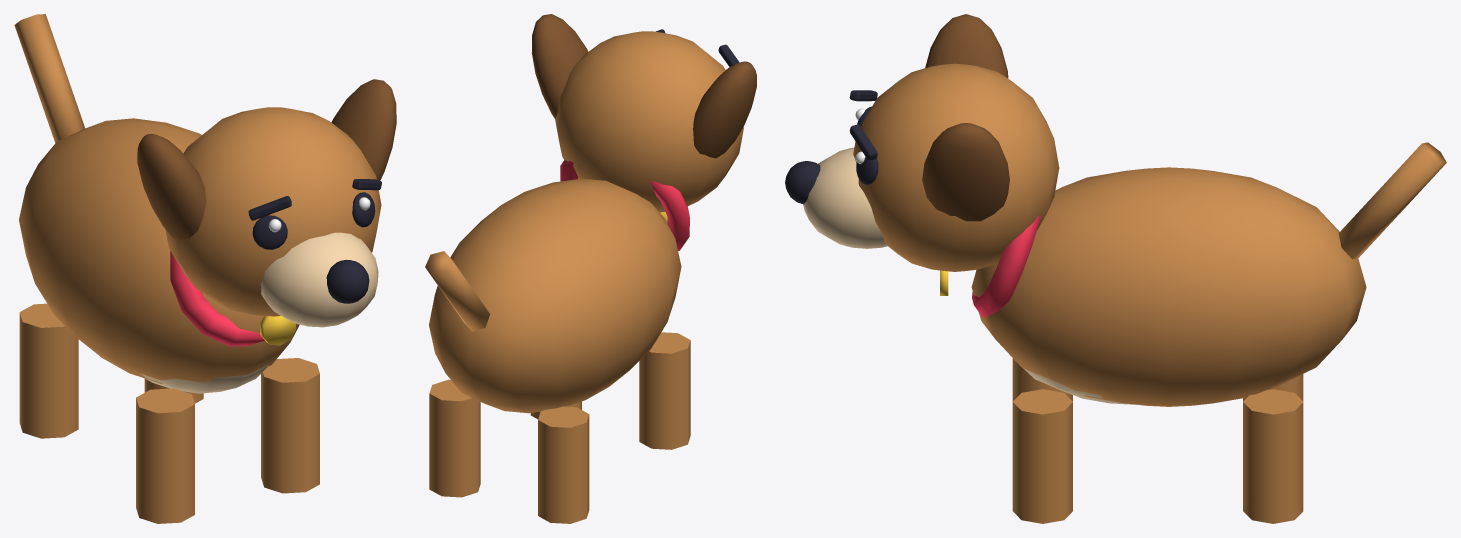
File: animal_dog.glb
The picture shows the model from 3 angles, left to right: view 1: azimuth 30°, elevation 25°; view 2: azimuth 150°, elevation 25°; view 3: azimuth 270°, elevation 25°; orthographic projection. The views are drawn at different scales.
Visible parts, largest first — view 1: body; view 2: body; view 3: body.
Part boxes in pixels (x1,y1,x2,y2): body: (14, 14, 396, 523); body: (425, 14, 756, 523); body: (785, 14, 1446, 523).
Bounding box in the file's own units: 0.5158 × 0.8259 × 1.21.
